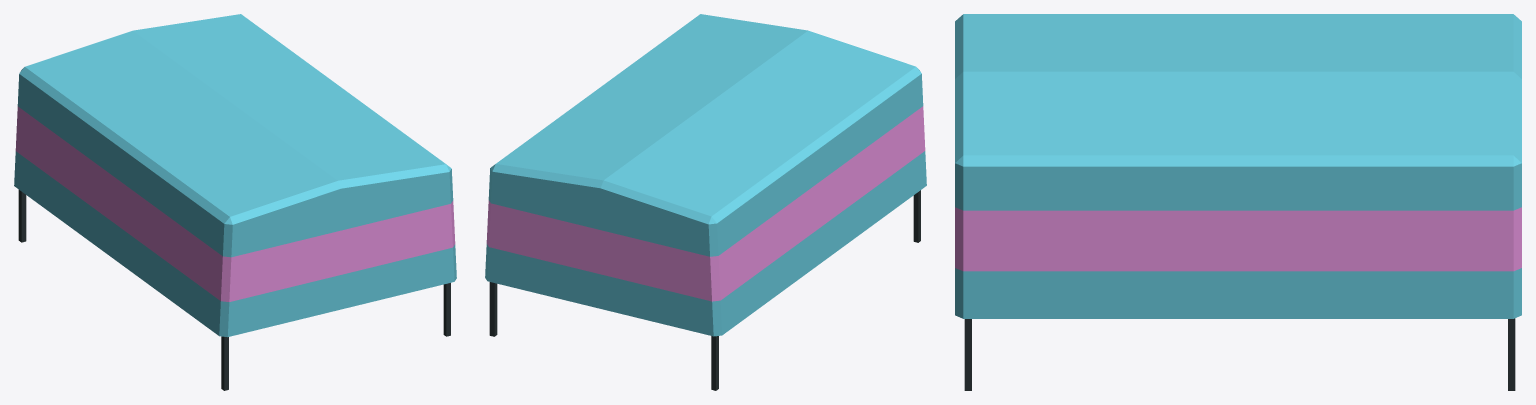
Rendered from OffroadTarp.fbx.
3 renders of one model, left to right at view 1: azimuth 30°, elevation 25°; view 2: azimuth 150°, elevation 25°; view 3: azimuth 270°, elevation 25°, orthographic. The views are drawn at different scales.
Visible parts, largest first — view 1: OffroadCargoTarp, OffroadFrame; view 2: OffroadCargoTarp, OffroadCargoTarpDoor, OffroadFrame; view 3: OffroadCargoTarp, OffroadFrame.
Boxes of the visible parts, bbox=[...] form: OffroadCargoTarp: bbox=[14, 14, 456, 337]; OffroadFrame: bbox=[18, 190, 450, 390]; OffroadCargoTarp: bbox=[485, 14, 926, 336]; OffroadCargoTarpDoor: bbox=[487, 171, 713, 336]; OffroadFrame: bbox=[489, 190, 920, 390]; OffroadCargoTarp: bbox=[955, 14, 1521, 318]; OffroadFrame: bbox=[964, 318, 1515, 390].
Bounding box in the file's own units: 178 × 131 × 274.
